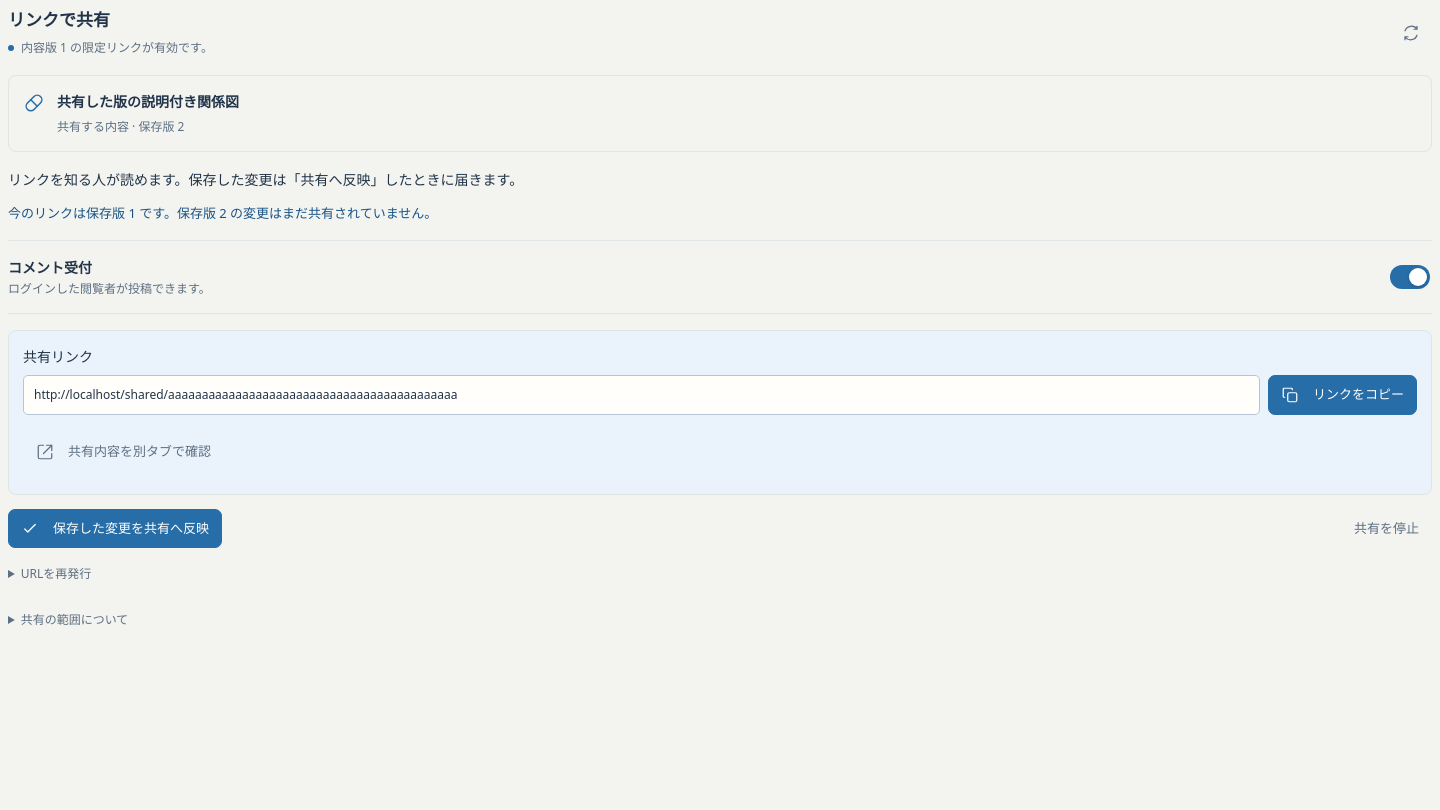
保存版を同じURLへ明示反映し、再発行要求を送らない
Expected: the field labelled "共有リンク" is shown, [23,375,1260,415]
Click the button "保存した変更を共有へ反映". click: (115, 529)
box: [8,509,222,548]
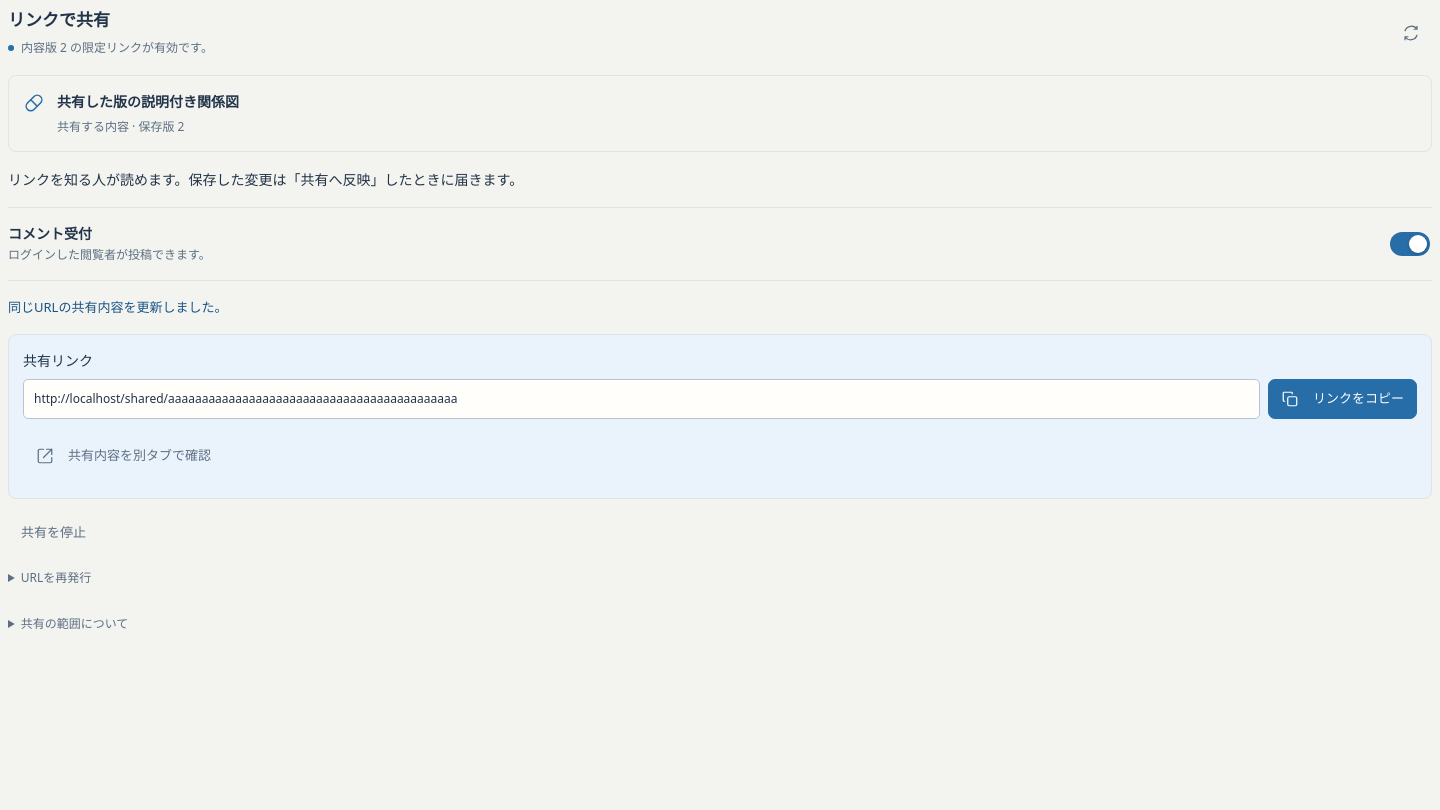
Expected: the text "内容版 2 の限定リンクが有効です。" is shown, [8,38,213,57]
